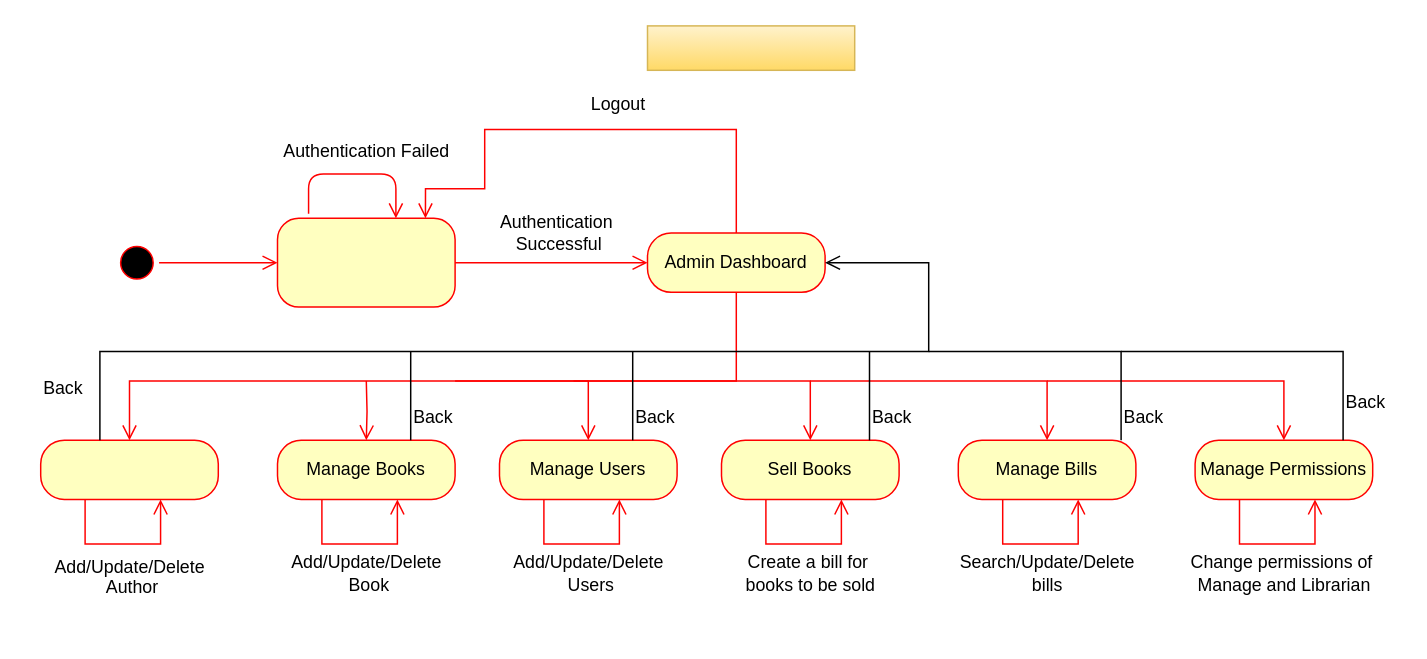
This 1427x659 diagram has some shape labels left out. The box of each missing label's shape, as (x1, y1, x2, y2) in pixels:
Admin State Machine: (646, 24, 855, 70)
Login: (276, 217, 455, 307)
Manage Authors: (39, 439, 218, 500)
